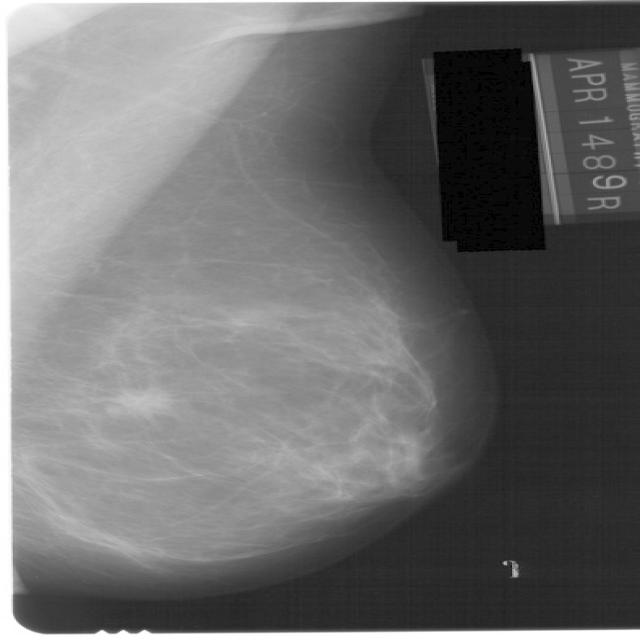tumour: (100, 386, 173, 419)
